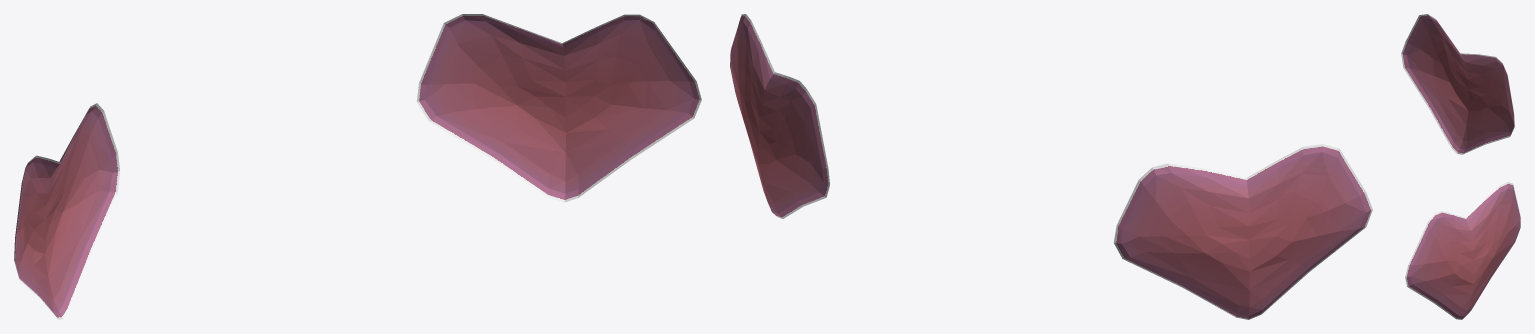
File: CharSkyKid_Face_StyleBlush.glb
The picture shows the model from 3 angles, left to right: view 1: azimuth 30°, elevation 25°; view 2: azimuth 150°, elevation 25°; view 3: azimuth 270°, elevation 25°; orthographic projection. The views are drawn at different scales.
Parts seen in each view (by area): view 1: CharSkyKid_Face_StyleBlush; view 2: CharSkyKid_Face_StyleBlush; view 3: CharSkyKid_Face_StyleBlush.
Boxes of the visible parts, x1,y1,x2,y2 form: CharSkyKid_Face_StyleBlush: (14,14,701,319); CharSkyKid_Face_StyleBlush: (730,14,1372,319); CharSkyKid_Face_StyleBlush: (1401,14,1520,319).
Bounding box in the file's own units: 2.01 × 0.548 × 0.4649.
Materials: 1 (1 with a texture image).
